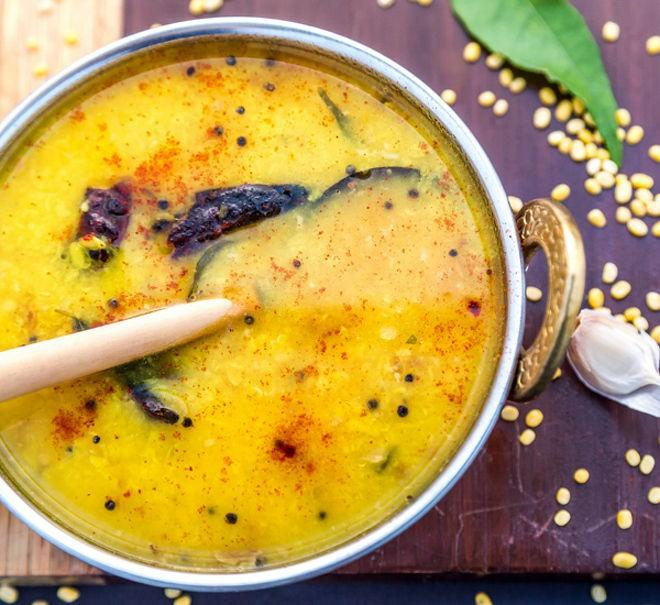Dal: (0, 40, 503, 570)
